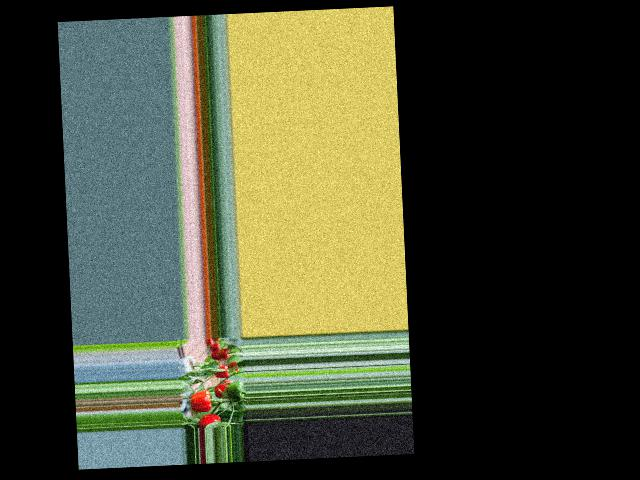bell_pepper: (210, 363, 233, 378)
